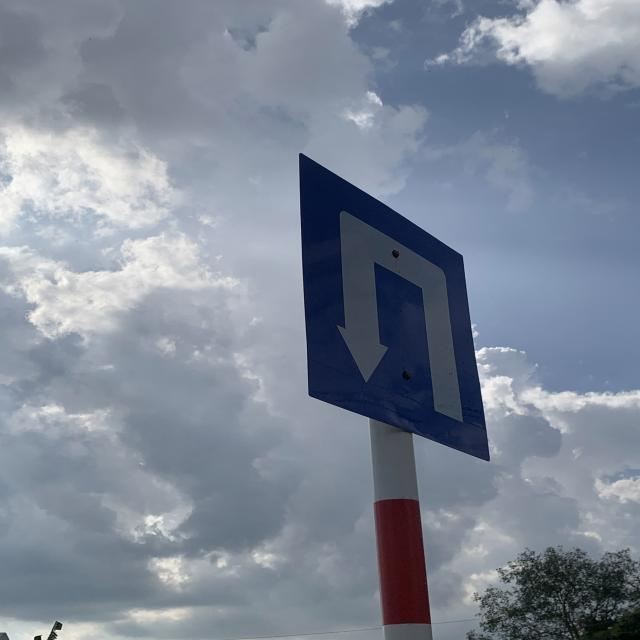Den_Giao_Thong: (302, 152, 488, 470)
